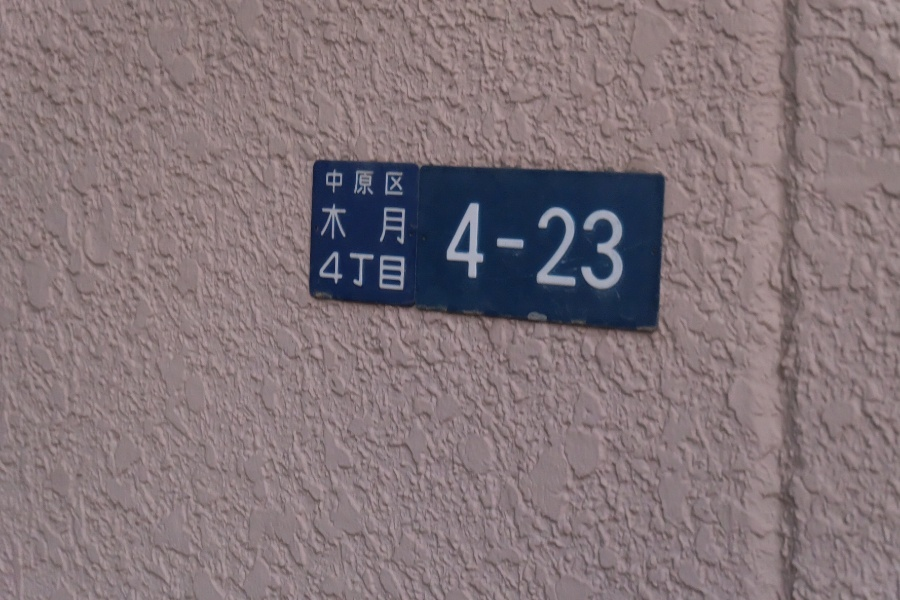text: (609, 200, 625, 298), (465, 200, 480, 298), (481, 200, 496, 298), (497, 200, 512, 298), (513, 200, 528, 298), (529, 200, 544, 298), (545, 200, 560, 298), (561, 200, 576, 298), (577, 200, 592, 298), (593, 200, 608, 298), (452, 200, 464, 298), (321, 204, 336, 249), (337, 204, 352, 249), (353, 204, 368, 249), (369, 204, 384, 249), (385, 204, 400, 249), (321, 250, 336, 295), (337, 250, 352, 295), (353, 250, 368, 295), (369, 250, 384, 295), (385, 250, 400, 295), (337, 167, 352, 203), (353, 167, 368, 203), (369, 167, 384, 203), (385, 167, 400, 203), (401, 250, 411, 295), (325, 167, 336, 203), (401, 204, 407, 249), (401, 167, 408, 203), (319, 250, 320, 295)
